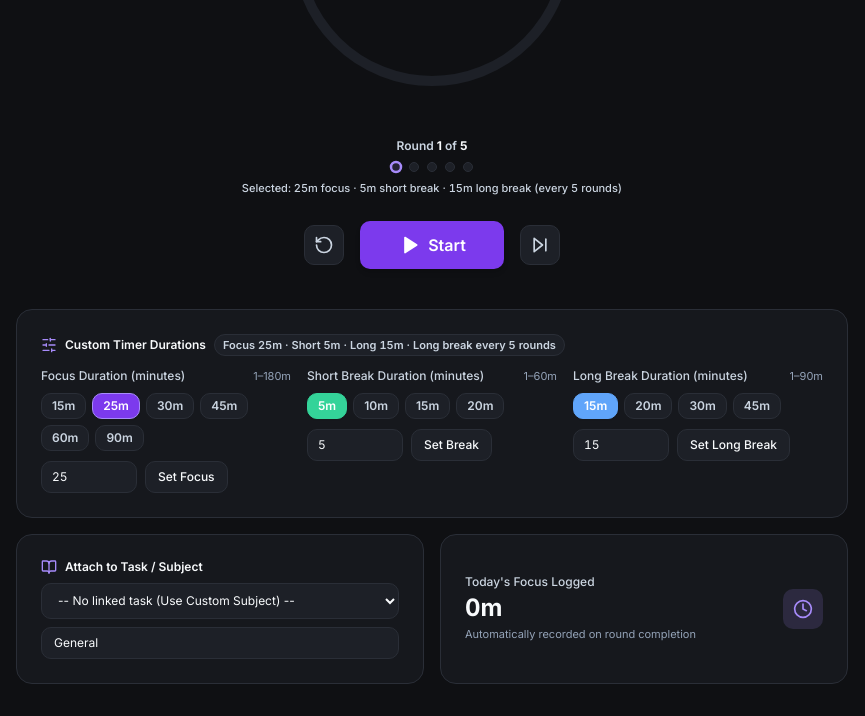
it: Customizable Focus Timer UI & Settings Synchronization › resets all draft inputs on Reset Defaults even when short break was unchanged, and preserves drafts on failure
The width and height of the screenshot is (865, 716).
(page scrolled)
// Set only focusDuration to 45m while shortBreakDuration (5m) and longBreakDuration (15m) remain at defaults
Click the button "45m" below "Focus Duration (minutes)" at (224, 406), box x1=200 y1=392 x2=248 y2=418
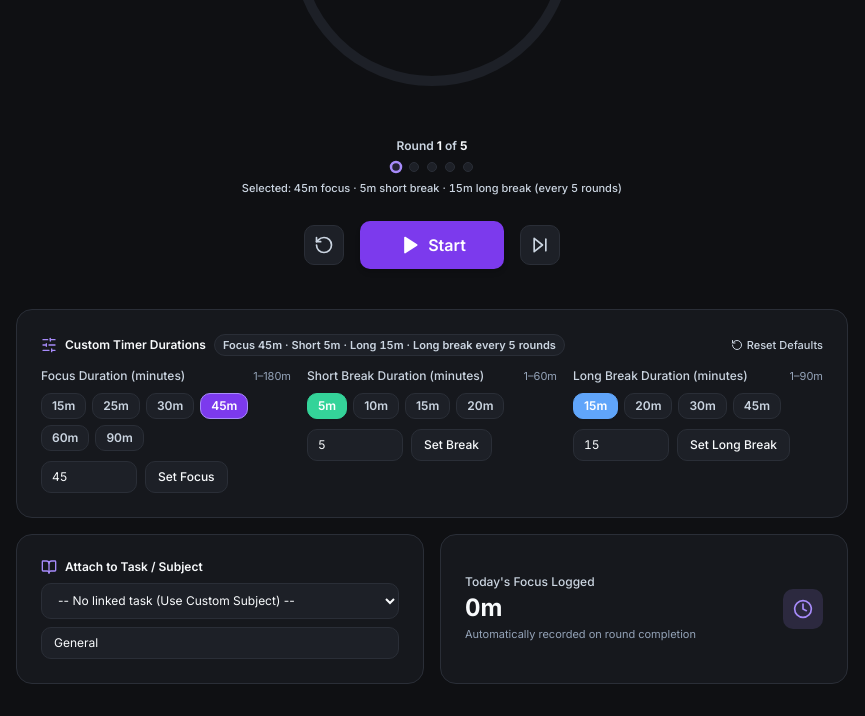
Replace the text in the number field named "Custom focus minutes" with "70" at (89, 476), box x1=41 y1=460 x2=137 y2=492
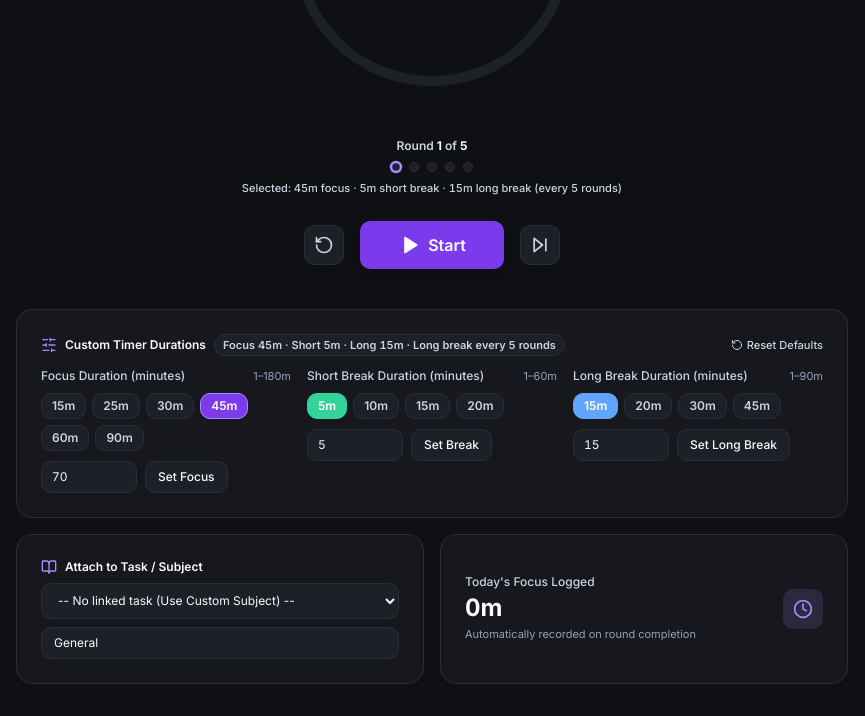
Replace the text in the number field named "Custom break minutes" with "9" at (355, 444), box x1=307 y1=428 x2=403 y2=460
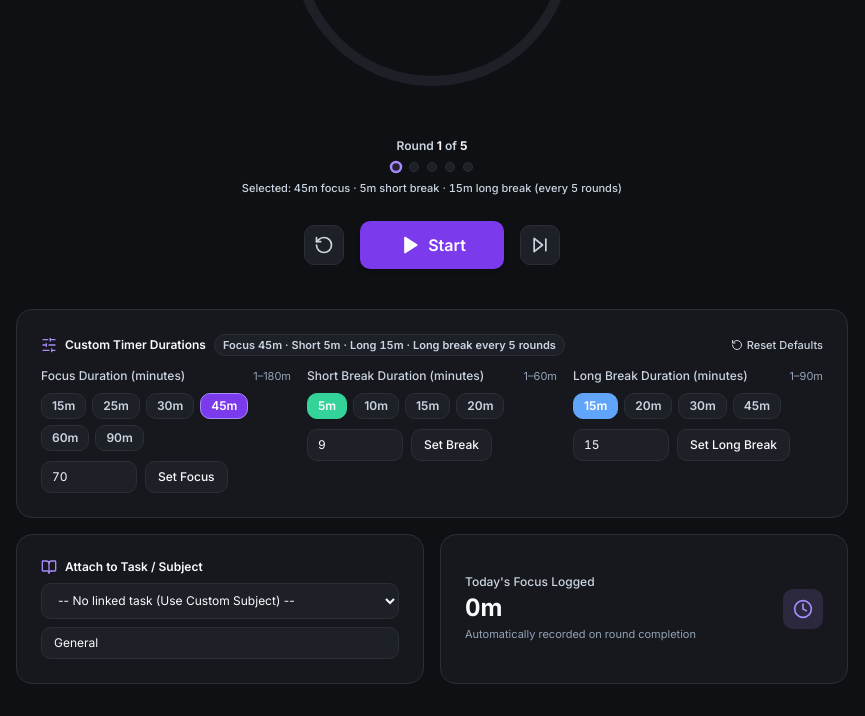
Replace the text in the number field named "Custom long break minutes" with "22" at (621, 444), box x1=573 y1=428 x2=669 y2=460
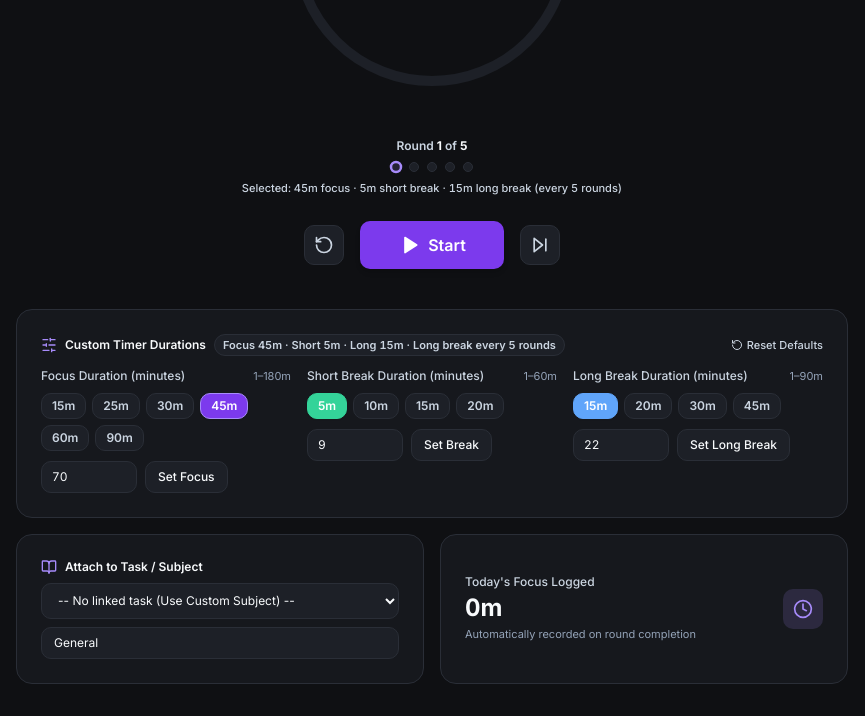
Click the button with aria-label "Reset durations to default" at (777, 345), box x1=731 y1=336 x2=823 y2=353
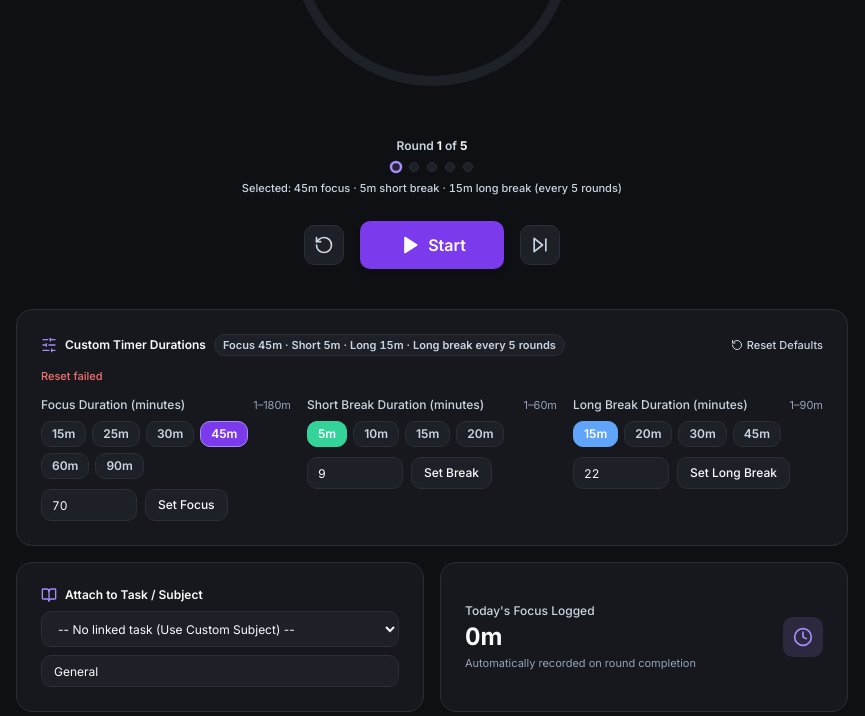
expect the message reads "Reset failed": met, box x1=41 y1=369 x2=102 y2=383
// When reset succeeds, all three draft inputs reset to defaults (25 / 5 / 15)
Click the button with aria-label "Reset durations to default" at (777, 345), box x1=731 y1=336 x2=823 y2=353
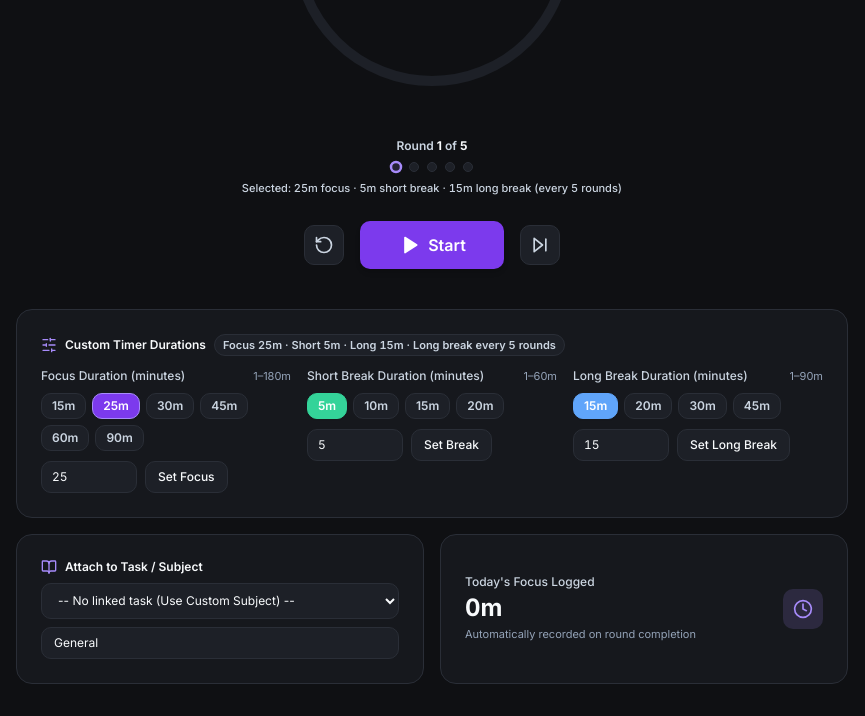
expect the number field named "Custom focus minutes" holds "25": met, box x1=41 y1=460 x2=137 y2=492
expect the number field named "Custom break minutes" holds "5": met, box x1=307 y1=428 x2=403 y2=460
expect the number field named "Custom long break minutes" holds "15": met, box x1=573 y1=428 x2=669 y2=460
